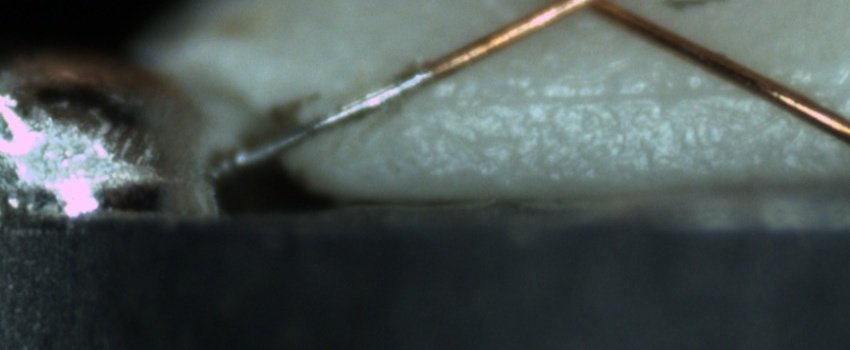CL: (538, 0, 627, 21)
DL: (419, 66, 849, 128)
TS: (209, 66, 434, 180)
